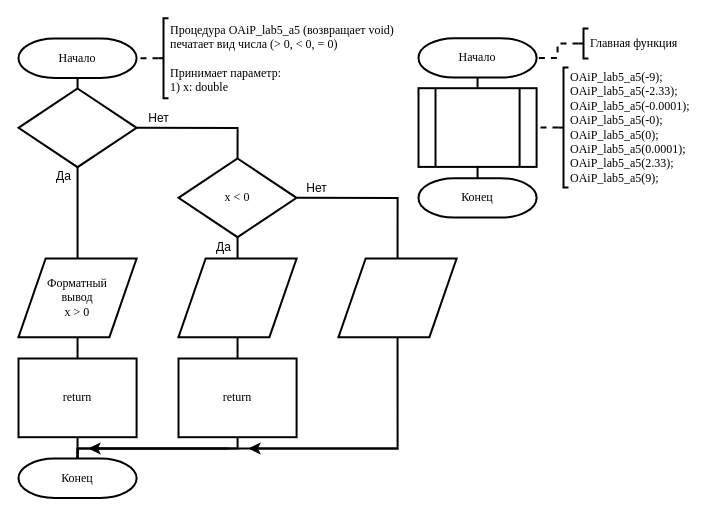
The diagram is 707 pixels wide and 516 high, and some of its shapes have lost their labels. The centre of each missing label's shape, as x and y in pixels:
x > 0: point (77, 127)
Вызов процедур: point (477, 127)
Форматный вывод x < 0: point (237, 297)
Форматный вывод x = 0: point (397, 297)
